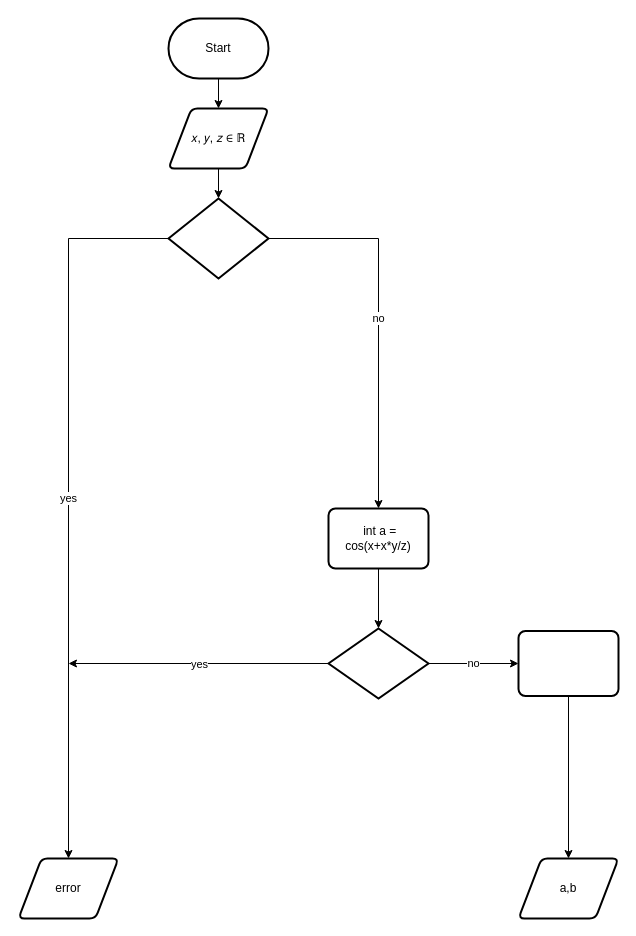
Image size: 636x936. Some labels were removed from this diagram. The shapes that lost their labels are listed below. From the top down, each one's box as (x1, y1, x2, y2) in pixels, then its label:
(167, 197, 269, 279): z = 0
(327, 627, 429, 699): a = 0
(517, 630, 619, 696): int b = x^3/cos(a)
